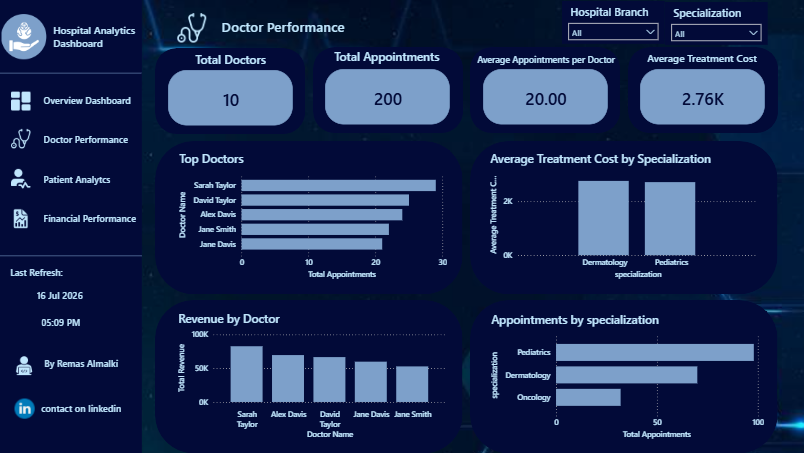

This screenshot's page, from the dashboard's own definition file:
{"tool":"powerbi","page":{"name":"Doctor Performance","canvas":[1280,720],"ordinal":1},"visuals":[{"type":"shape","box":[0,0,226.8,720.6],"z":0},{"type":"shape","box":[248.3,76.7,238.3,136.7],"z":0,"group":"g4"},{"type":"actionButton","box":[66.2,133.9,159.8,50.4],"z":0,"group":"g1"},{"type":"cardVisual","fields":{"Data":["Measures1.Refresh Date"]},"box":[30,437.1,165.7,58.6],"z":0,"group":"g2"},{"type":"image","box":[20,562.5,39.2,38.3],"z":0,"group":"g3"},{"type":"cardVisual","fields":{"Data":["Measures1.Total Doctors"]},"box":[268.3,111.7,198.3,88.3],"z":1000,"group":"g4"},{"type":"group","id":"g1","title":"Group 1","box":[19.1,133.9,207.3,239.4],"z":1000},{"type":"image","box":[19.5,144.4,30.6,31.7],"z":1000,"group":"g1"},{"type":"textbox","box":[12.9,417.1,100,38.6],"z":1000,"group":"g2"},{"type":"textbox","box":[65.8,562.5,143.3,38.3],"z":1000,"group":"g3"},{"type":"image","box":[0,21.6,80.6,72],"z":2000},{"type":"shape","box":[998.3,75,238.3,136.7],"z":2000,"group":"g4"},{"type":"image","box":[19.1,202.7,30.9,36.4],"z":2000,"group":"g1"},{"type":"cardVisual","fields":{"Data":["Measures1.Refresh Time"]},"box":[50,480,105.7,55.7],"z":2000,"group":"g2"},{"type":"actionButton","box":[20,629.2,186.7,40],"z":2000,"group":"g3"},{"type":"textbox","box":[80.6,31.7,145.4,86.4],"z":3000},{"type":"shape","box":[748.3,75,238.3,136.7],"z":3000,"group":"g4"},{"type":"actionButton","box":[66.4,195.4,160,50.9],"z":3000,"group":"g1"},{"type":"shape","box":[0,57.6,226.1,118.1],"z":4000},{"type":"shape","box":[498.3,75,238.3,136.7],"z":4000,"group":"g4"},{"type":"image","box":[19.3,266,30.7,36.7],"z":4000,"group":"g1"},{"type":"textbox","box":[306.6,76.7,123.3,45],"z":5000,"group":"g4"},{"type":"actionButton","box":[66,258.6,160,51.3],"z":5000,"group":"g1"},{"type":"group","id":"g2","title":"Group 2","box":[12.9,417.1,182.9,118.6],"z":5000},{"type":"cardVisual","fields":{"Data":["Measures1.Total Appointments"]},"box":[518.3,110,198.3,88.3],"z":6000,"group":"g4"},{"type":"actionButton","box":[66,322,160,51.3],"z":6000,"group":"g1"},{"type":"shape","box":[0,348.3,226.7,116.7],"z":6000},{"type":"image","box":[19.3,329.3,30.7,36.7],"z":7000,"group":"g1"},{"type":"group","id":"g3","title":"Group 3","box":[20,562.5,189.2,106.7],"z":7000},{"type":"group","id":"g4","title":"Group 4","box":[248.3,71.7,988.3,141.7],"z":8000},{"type":"cardVisual","fields":{"Data":["Measures1.Avg Appointments per Doctor"]},"box":[768.3,110,198.3,88.3],"z":8000,"group":"g4"},{"type":"textbox","box":[527.7,71.7,191.7,45],"z":9000,"group":"g4"},{"type":"textbox","box":[1023.3,76.7,193.3,50],"z":9000},{"type":"cardVisual","fields":{"Data":["Measures1.Average Treatment Cost"]},"box":[1018.3,110,198.3,88.3],"z":10000,"group":"g4"},{"type":"shape","box":[248.3,223.3,488.3,243.3],"z":10000},{"type":"textbox","box":[754.4,78.9,233.3,55],"z":11000,"group":"g4"},{"type":"shape","box":[248.3,476.7,488.3,243.3],"z":11000},{"type":"shape","box":[748.3,476.7,488.3,243.3],"z":12000},{"type":"shape","box":[748.3,223.3,488.3,243.3],"z":13000},{"type":"image","box":[281.1,21.1,50,46.7],"z":14000},{"type":"textbox","box":[331.7,21.7,238.3,46.7],"z":15000},{"type":"clusteredBarChart","title":"Top Doctors","fields":{"Category":["Dim_Doctors.Doctor Name"],"Y":["Measures1.Total Appointments"]},"box":[281.7,238.3,435,210],"z":16000},{"type":"clusteredBarChart","title":"Appointments by specialization","fields":{"Category":["Dim_Doctors.specialization"],"Y":["Measures1.Total Appointments"]},"box":[776.7,493.3,443.3,208.3],"z":17000},{"type":"clusteredColumnChart","title":"Revenue by Doctor","fields":{"Y":["Measures1.Total Revenue"],"Category":["Dim_Doctors.Doctor Name"]},"box":[280,491.7,435,210],"z":18000},{"type":"clusteredColumnChart","title":"Average Treatment Cost by Specialization","fields":{"Category":["Dim_Doctors.specialization"],"Y":["Measures1.Average Treatment Cost"]},"box":[775,238.3,435,210],"z":19000},{"type":"slicer","fields":{"Values":["Dim_Doctors.specialization"]},"box":[1056.7,3.3,163.3,68.3],"z":20000},{"type":"slicer","fields":{"Values":["Dim_Doctors.hospital_branch"]},"box":[893.3,1.7,163.3,68.3],"z":21000}]}

Visuals, with their boxes on the page's 1280x720 design canvas (x1, y1, x2, y2). These are canvas units, not pixel positions in the 804x453 screenshot, which may show the page scaled, cropped or inside an application window:
shape: x1=0, y1=0, x2=227, y2=721
shape: x1=248, y1=77, x2=487, y2=213
actionButton: x1=66, y1=134, x2=226, y2=184
cardVisual - Measures1.Refresh Date: x1=30, y1=437, x2=196, y2=496
image: x1=20, y1=562, x2=59, y2=601
cardVisual - Measures1.Total Doctors: x1=268, y1=112, x2=467, y2=200
"Group 1" group: x1=19, y1=134, x2=226, y2=373
image: x1=20, y1=144, x2=50, y2=176
textbox: x1=13, y1=417, x2=113, y2=456
textbox: x1=66, y1=562, x2=209, y2=601
image: x1=0, y1=22, x2=81, y2=94
shape: x1=998, y1=75, x2=1237, y2=212
image: x1=19, y1=203, x2=50, y2=239
cardVisual - Measures1.Refresh Time: x1=50, y1=480, x2=156, y2=536
actionButton: x1=20, y1=629, x2=207, y2=669
textbox: x1=81, y1=32, x2=226, y2=118
shape: x1=748, y1=75, x2=987, y2=212
actionButton: x1=66, y1=195, x2=226, y2=246
shape: x1=0, y1=58, x2=226, y2=176
shape: x1=498, y1=75, x2=737, y2=212
image: x1=19, y1=266, x2=50, y2=303
textbox: x1=307, y1=77, x2=430, y2=122
actionButton: x1=66, y1=259, x2=226, y2=310
"Group 2" group: x1=13, y1=417, x2=196, y2=536
cardVisual - Measures1.Total Appointments: x1=518, y1=110, x2=717, y2=198
actionButton: x1=66, y1=322, x2=226, y2=373
shape: x1=0, y1=348, x2=227, y2=465
image: x1=19, y1=329, x2=50, y2=366
"Group 3" group: x1=20, y1=562, x2=209, y2=669
"Group 4" group: x1=248, y1=72, x2=1237, y2=213
cardVisual - Measures1.Avg Appointments per Doctor: x1=768, y1=110, x2=967, y2=198
textbox: x1=528, y1=72, x2=719, y2=117
textbox: x1=1023, y1=77, x2=1217, y2=127
cardVisual - Measures1.Average Treatment Cost: x1=1018, y1=110, x2=1217, y2=198
shape: x1=248, y1=223, x2=737, y2=467
textbox: x1=754, y1=79, x2=988, y2=134
shape: x1=248, y1=477, x2=737, y2=720
shape: x1=748, y1=477, x2=1237, y2=720
shape: x1=748, y1=223, x2=1237, y2=467
image: x1=281, y1=21, x2=331, y2=68
textbox: x1=332, y1=22, x2=570, y2=68
"Top Doctors" clusteredBarChart: x1=282, y1=238, x2=717, y2=448
"Appointments by specialization" clusteredBarChart: x1=777, y1=493, x2=1220, y2=702
"Revenue by Doctor" clusteredColumnChart: x1=280, y1=492, x2=715, y2=702
"Average Treatment Cost by Specialization" clusteredColumnChart: x1=775, y1=238, x2=1210, y2=448
slicer - Dim_Doctors.specialization: x1=1057, y1=3, x2=1220, y2=72
slicer - Dim_Doctors.hospital_branch: x1=893, y1=2, x2=1057, y2=70
